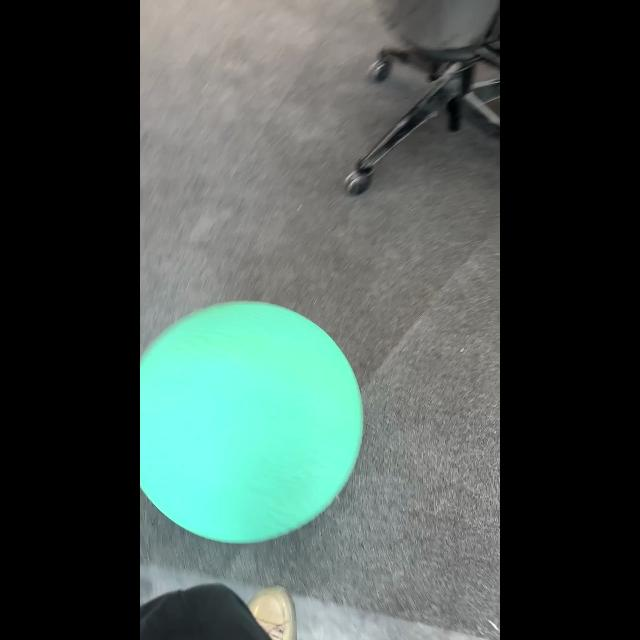ALGAE: (140, 300, 364, 544)
